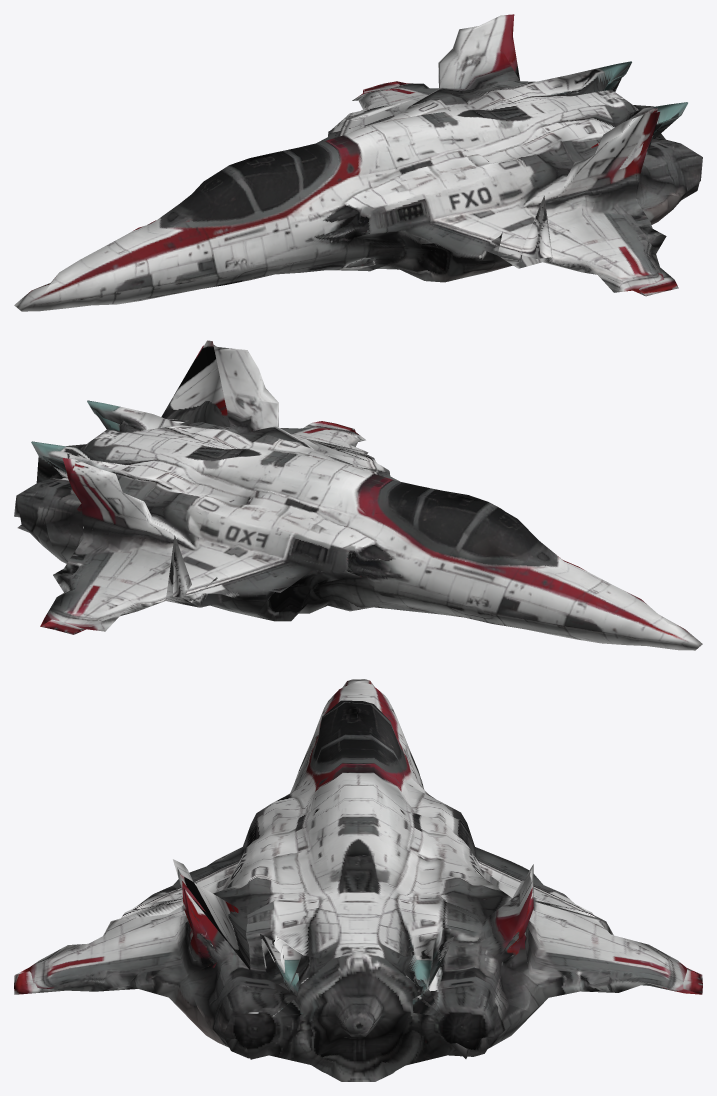
Rendered from spaceship_fighter_voxel_coarse.glb.
The picture shows the model from 3 angles, top to bottom: view 1: azimuth 30°, elevation 25°; view 2: azimuth 150°, elevation 25°; view 3: azimuth 270°, elevation 25°; orthographic projection. The views are drawn at different scales.
Visible parts, largest first — view 1: Low; view 2: Low; view 3: Low.
Part boxes in pixels (bbox=[...]): Low: bbox=[14, 14, 702, 311]; Low: bbox=[14, 340, 702, 650]; Low: bbox=[14, 679, 702, 1081].
Size of the model in its own units: 1.86 by 0.4165 by 1.41.
Materials: 1 (1 with a texture image).
